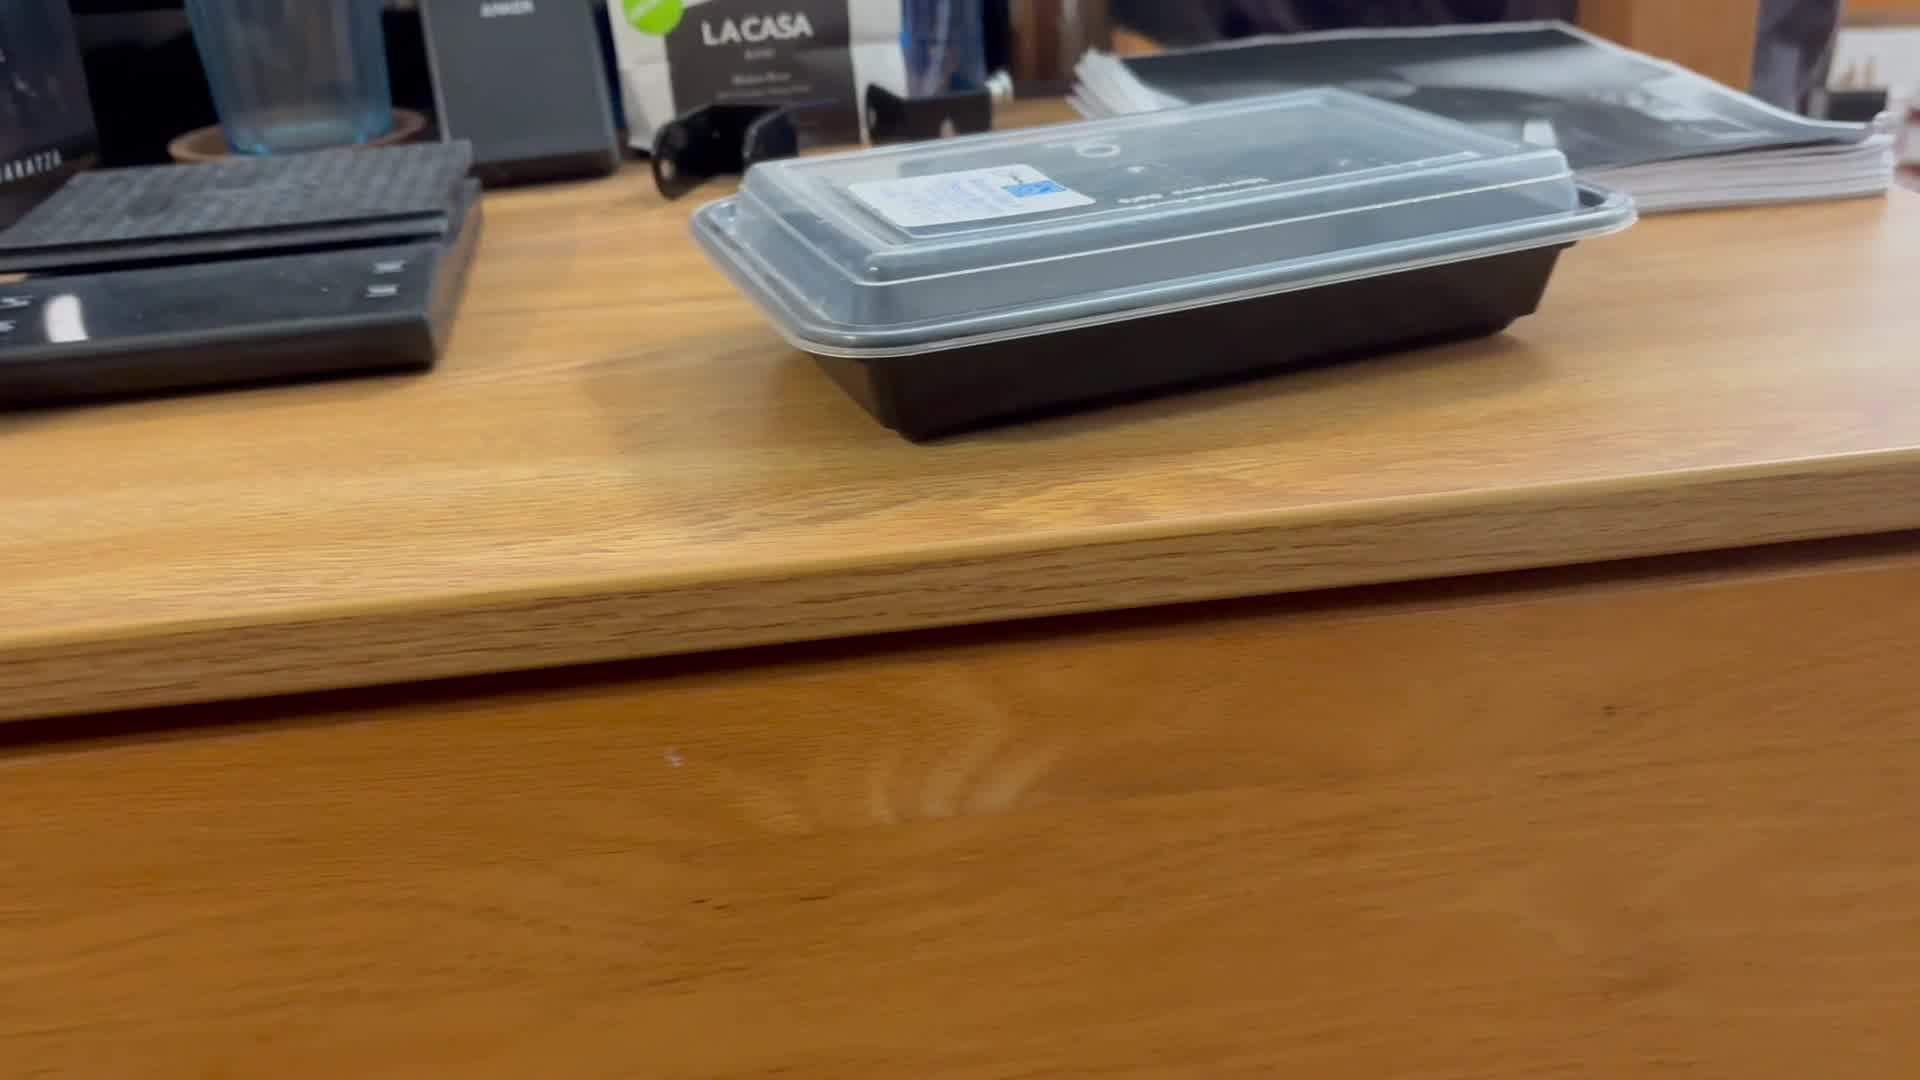lp_cup_lids: (704, 80, 1626, 444)
